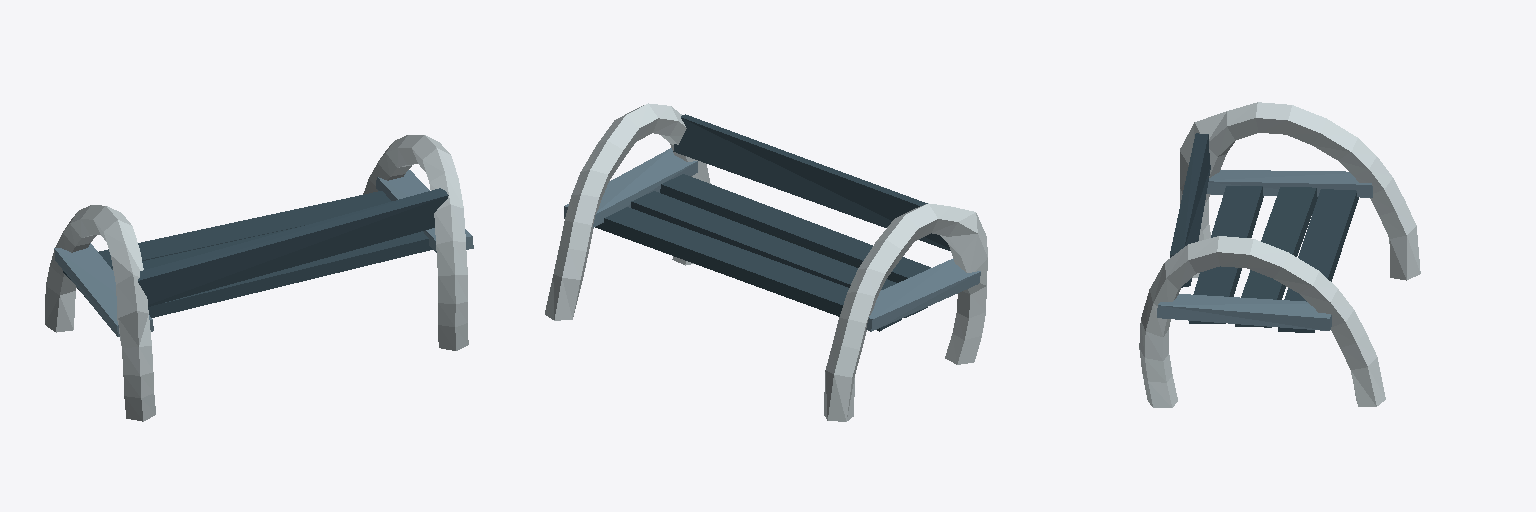
File: model-triangulated.obj
3 renders of one model, left to right at view 1: azimuth 30°, elevation 25°; view 2: azimuth 150°, elevation 25°; view 3: azimuth 270°, elevation 25°, orthographic.
Parts seen in each view (by area): view 1: group[number redacted], group[number redacted], group[number redacted], group[number redacted], group[number redacted], group[number redacted], group[number redacted], group[number redacted]; view 2: group[number redacted], group[number redacted], group[number redacted], group[number redacted], group[number redacted], group[number redacted], group[number redacted], group[number redacted]; view 3: group[number redacted], group[number redacted], group[number redacted], group[number redacted], group[number redacted], group[number redacted], group[number redacted], group[number redacted].
Part boxes in pixels (x1,y1,x2,y2): group[number redacted]: (138, 188, 448, 306); group[number redacted]: (45, 205, 155, 421); group[number redacted]: (363, 135, 468, 350); group[number redacted]: (148, 231, 432, 317); group[number redacted]: (63, 191, 391, 279); group[number redacted]: (54, 243, 153, 336); group[number redacted]: (376, 170, 473, 252); group[number redacted]: (77, 226, 301, 296); group[number redacted]: (824, 203, 987, 421); group[number redacted]: (673, 114, 950, 250); group[number redacted]: (545, 103, 710, 320); group[number redacted]: (595, 207, 901, 331); group[number redacted]: (660, 174, 930, 282); group[number redacted]: (631, 191, 927, 317); group[number redacted]: (866, 259, 980, 331); group[number redacted]: (564, 148, 697, 227); group[number redacted]: (1139, 236, 1385, 407); group[number redacted]: (1180, 102, 1420, 280); group[number redacted]: (1157, 294, 1331, 330); group[number redacted]: (1278, 189, 1358, 332); group[number redacted]: (1235, 187, 1317, 327); group[number redacted]: (1189, 186, 1263, 323); group[number redacted]: (1207, 170, 1372, 197); group[number redacted]: (1170, 133, 1210, 287).
Bounding box in the file's own units: 0.8971 × 0.4485 × 0.6114.